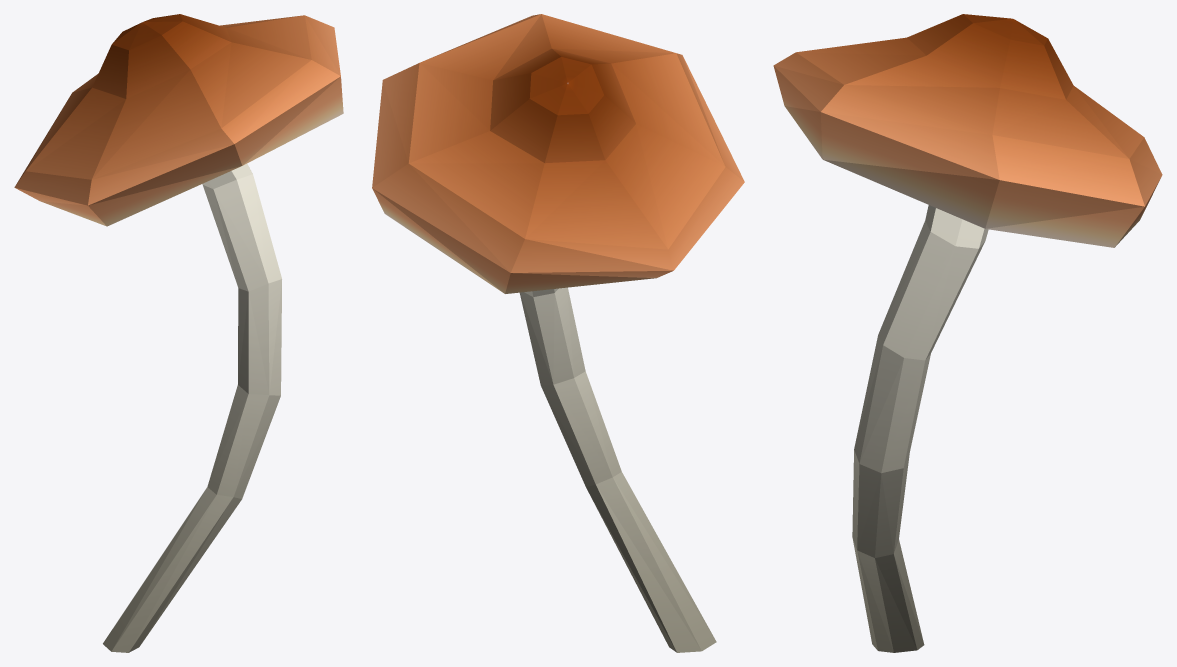
Rendered from MushroomThin-03.FBX.
The picture shows the model from 3 angles, left to right: view 1: azimuth 30°, elevation 25°; view 2: azimuth 150°, elevation 25°; view 3: azimuth 270°, elevation 25°; orthographic projection. The views are drawn at different scales.
Parts seen in each view (by area): view 1: MushroomThin-03; view 2: MushroomThin-03; view 3: MushroomThin-03.
Part boxes in pixels (x1,y1,x2,y2): MushroomThin-03: (14,14,343,652); MushroomThin-03: (372,14,744,652); MushroomThin-03: (773,14,1162,652).
Size of the model in its own units: 31.46 by 57.34 by 29.88.
Materials: 1 (1 with a texture image).
